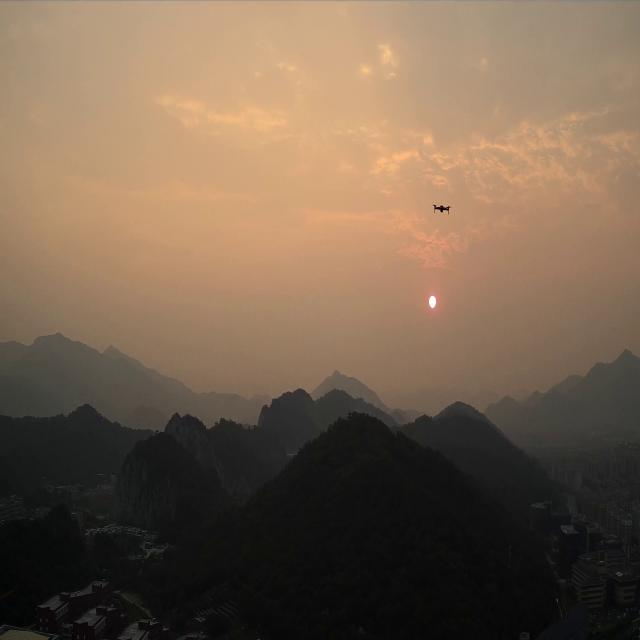UAV: (432, 204, 452, 214)
